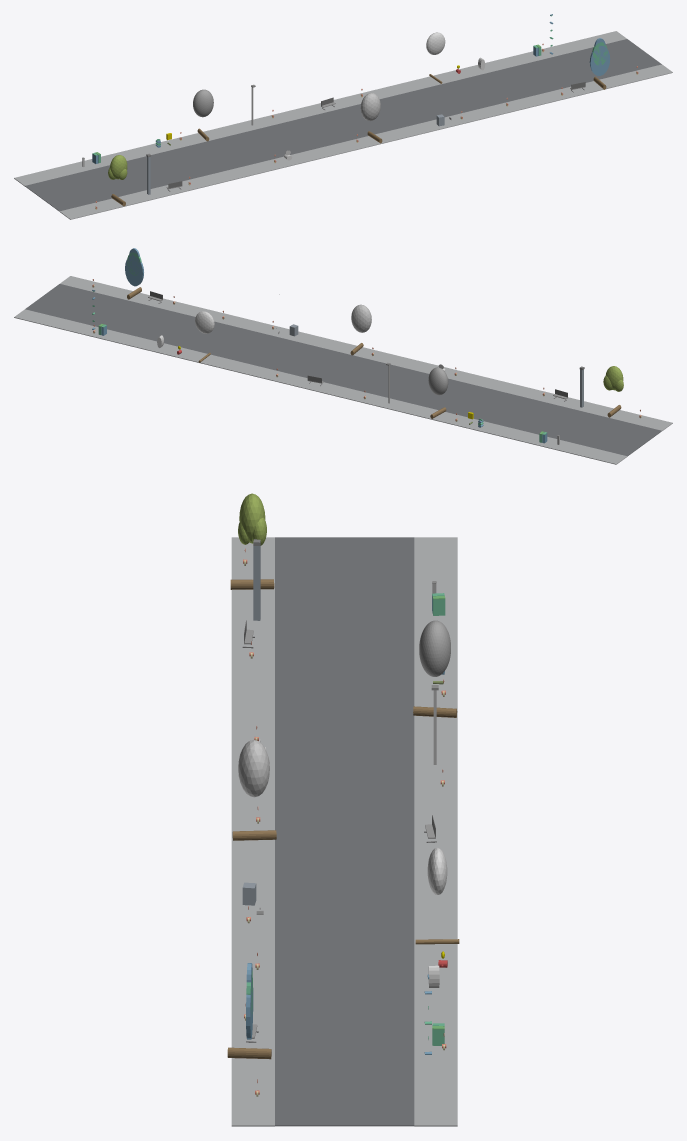
The picture shows the model from 3 angles, top to bottom: view 1: azimuth 30°, elevation 25°; view 2: azimuth 150°, elevation 25°; view 3: azimuth 270°, elevation 25°; orthographic projection. The views are drawn at different scales.
Parts seen in each view (by area): view 1: road_slab, sidewalk_left, sidewalk_right, inst_0016, inst_0014, inst_0013, inst_0012, inst_0015; view 2: road_slab, sidewalk_right, sidewalk_left, inst_0016, inst_0014, inst_0013, inst_0012, inst_0015; view 3: road_slab, sidewalk_right, sidewalk_left, inst_0014, inst_0013, inst_0012, inst_0016, inst_0015.
Part boxes in pixels (x1,y1,x2,y2): road_slab: (25,39,661,211); sidewalk_left: (59,64,672,219); sidewalk_right: (14,31,626,186); inst_0016: (589,38,610,89); inst_0014: (360,93,382,143); inst_0013: (193,89,213,141); inst_0012: (108,155,127,206); inst_0015: (426,32,445,83); road_slab: (25,284,661,456); sidewalk_right: (14,309,627,464); sidewalk_left: (60,276,672,430); inst_0016: (125,248,143,299); inst_0014: (350,304,371,355); inst_0013: (428,367,448,418); inst_0012: (603,366,623,417); inst_0015: (195,311,214,362); road_slab: (275,537,414,1126); sidewalk_right: (414,537,457,1126); sidewalk_left: (231,537,274,1126); inst_0014: (232,739,276,840); inst_0013: (413,620,457,717); inst_0012: (230,493,274,589); inst_0016: (227,963,271,1059); inst_0015: (415,847,459,944).
Size of the model in its own units: 80 by 6.08 by 13.31.
